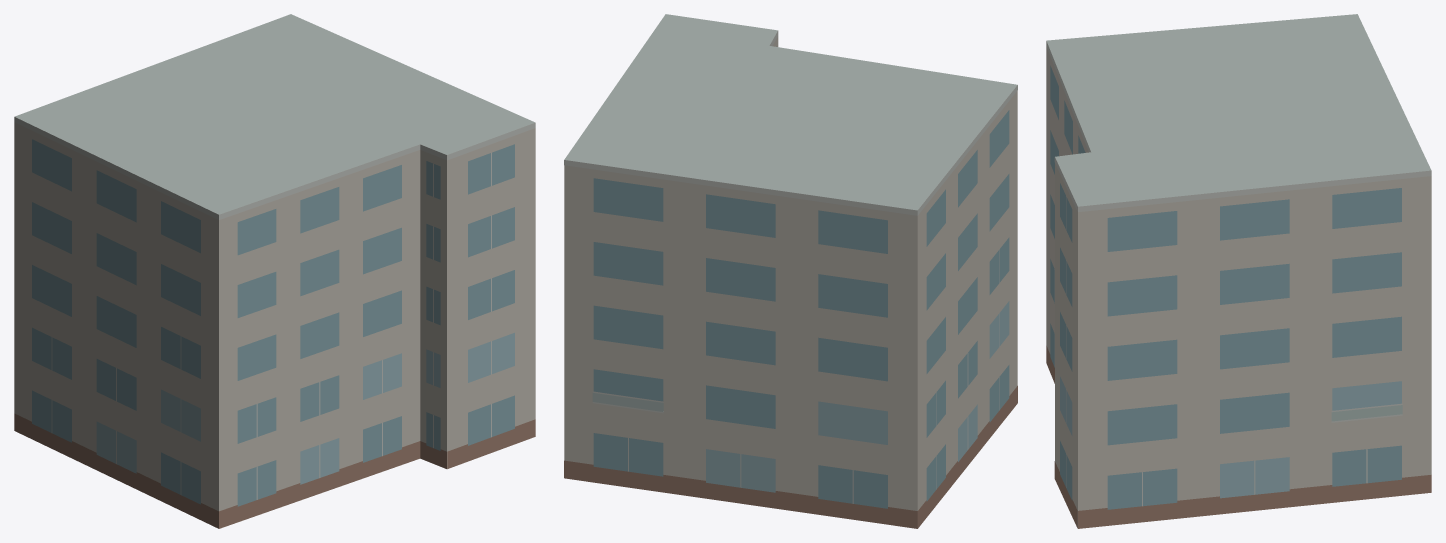
File: survey-upis-32461770.glb
3 renders of one model, left to right at view 1: azimuth 30°, elevation 25°; view 2: azimuth 150°, elevation 25°; view 3: azimuth 270°, elevation 25°, orthographic. The views are drawn at different scales.
Parts seen in each view (by area): view 1: survey-upis-32461770.tmp; view 2: survey-upis-32461770.tmp; view 3: survey-upis-32461770.tmp.
Part boxes in pixels (bbox=[...]): survey-upis-32461770.tmp: bbox=[14, 14, 535, 528]; survey-upis-32461770.tmp: bbox=[564, 14, 1017, 528]; survey-upis-32461770.tmp: bbox=[1046, 14, 1431, 528].
Bounding box in the file's own units: 18.35 × 14.3 × 15.51.
